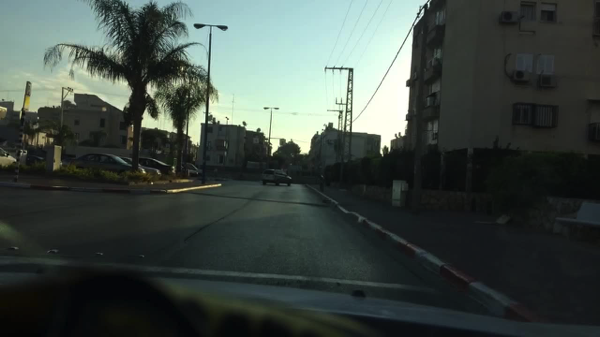car: (61, 153, 148, 180), (121, 156, 161, 177), (259, 168, 292, 187), (135, 156, 174, 172), (0, 147, 19, 168), (181, 161, 205, 176), (25, 155, 44, 164)
